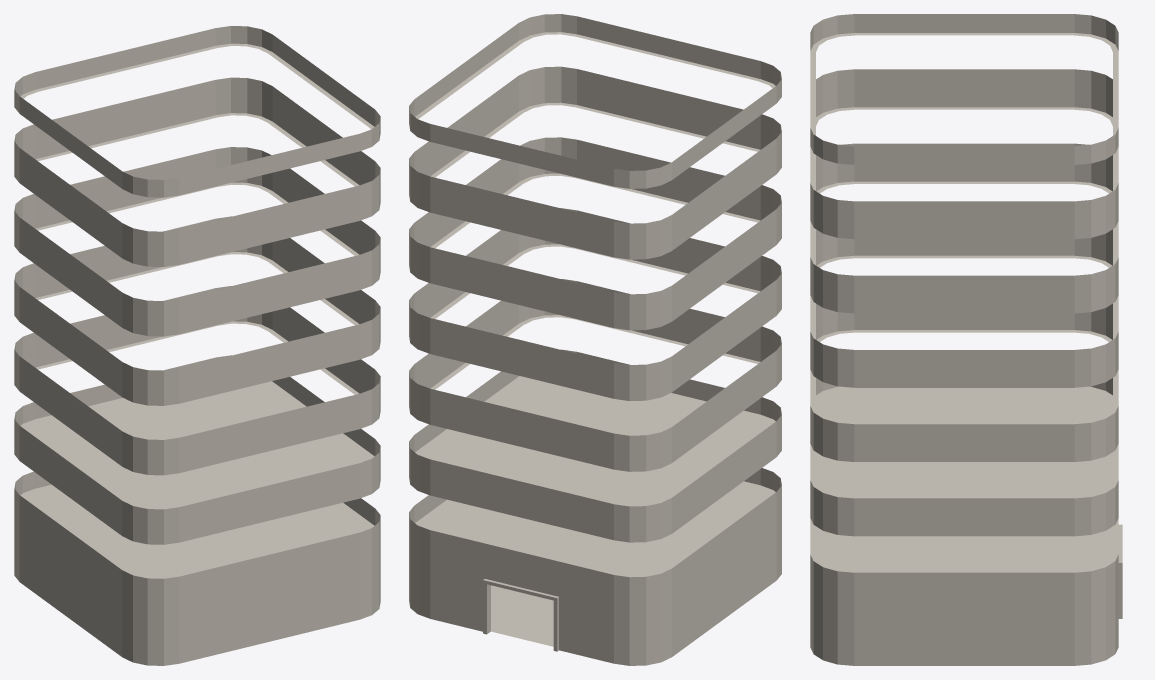
The model's file is Bld_C_high_L5_B.fbx.
3 views of the same model, side by side, from view 1: azimuth 30°, elevation 25°; view 2: azimuth 150°, elevation 25°; view 3: azimuth 270°, elevation 25° (orthographic). The views are drawn at different scales.
Parts seen in each view (by area): view 1: Bld_C_high_L5_B_LOD0; view 2: Bld_C_high_L5_B_LOD0; view 3: Bld_C_high_L5_B_LOD0.
Part boxes in pixels (bbox=[...]): Bld_C_high_L5_B_LOD0: bbox=[14, 26, 380, 665]; Bld_C_high_L5_B_LOD0: bbox=[409, 14, 781, 665]; Bld_C_high_L5_B_LOD0: bbox=[810, 14, 1122, 665].
Size of what is drawn, in the model's own units: 2100 by 4406 by 2222.
1 material, 1 textured.
